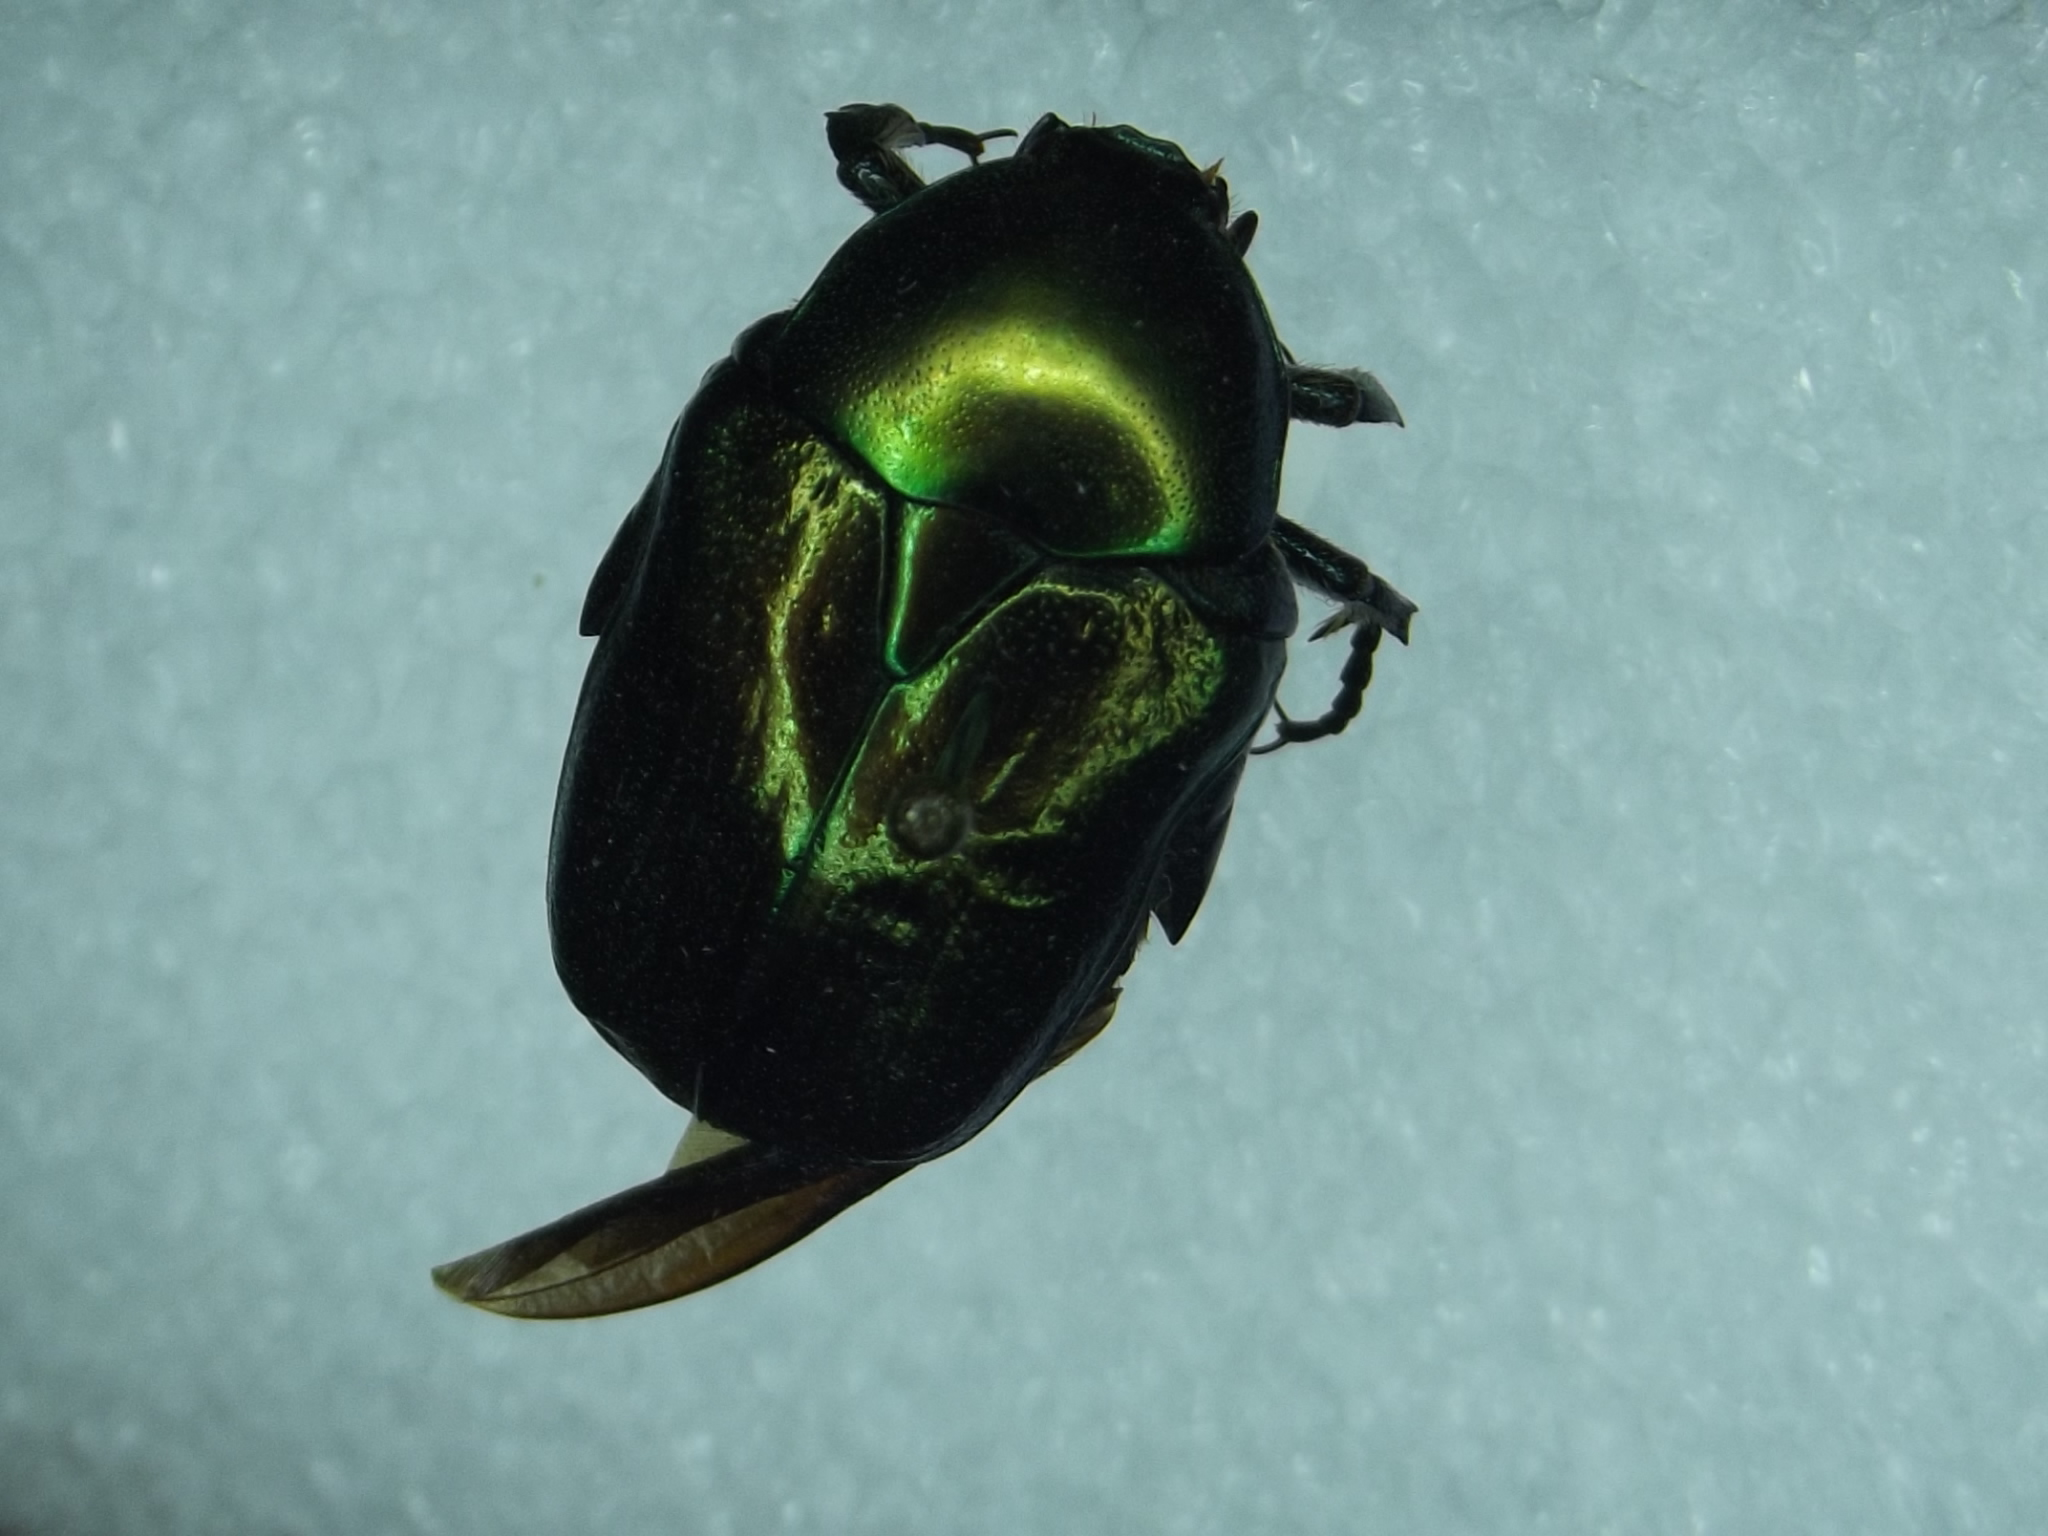Protaetia_angustata_angustata: (414, 48, 1450, 1359)
